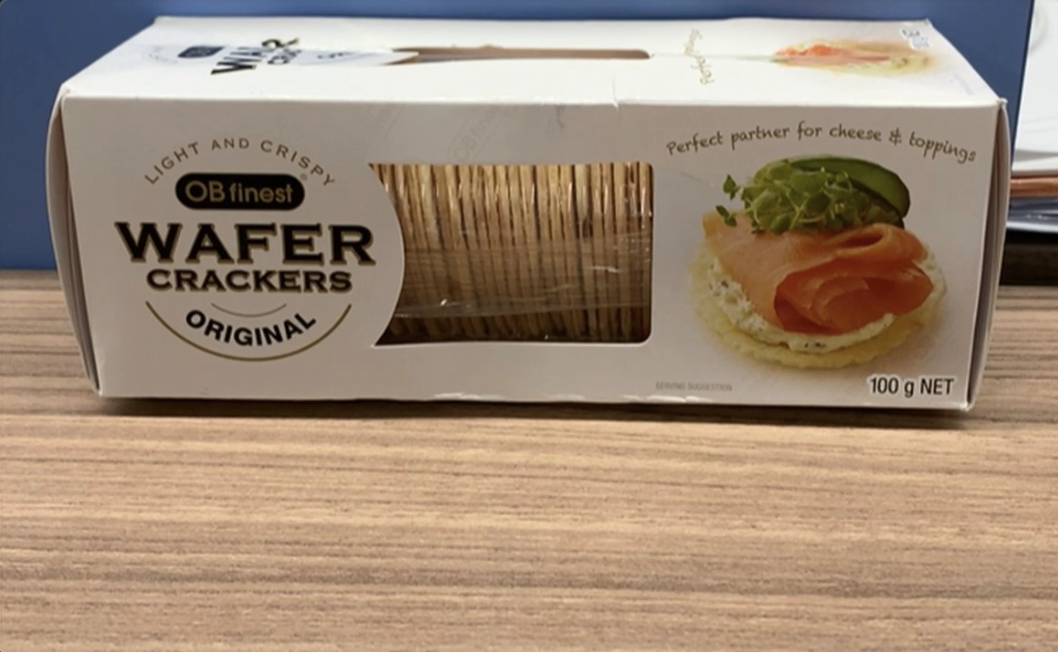crackers_150g: (95, 104, 972, 404)
